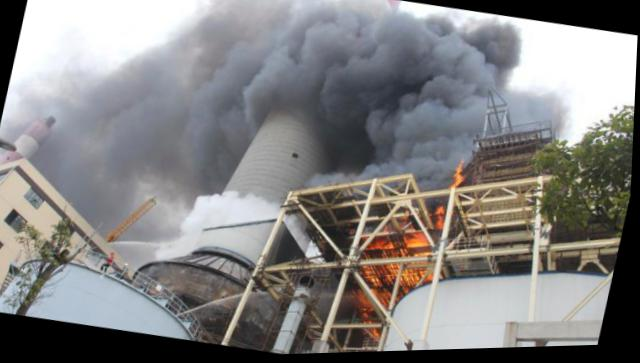fire: (406, 232, 434, 250), (434, 206, 451, 232), (456, 160, 470, 186), (377, 238, 396, 250)
